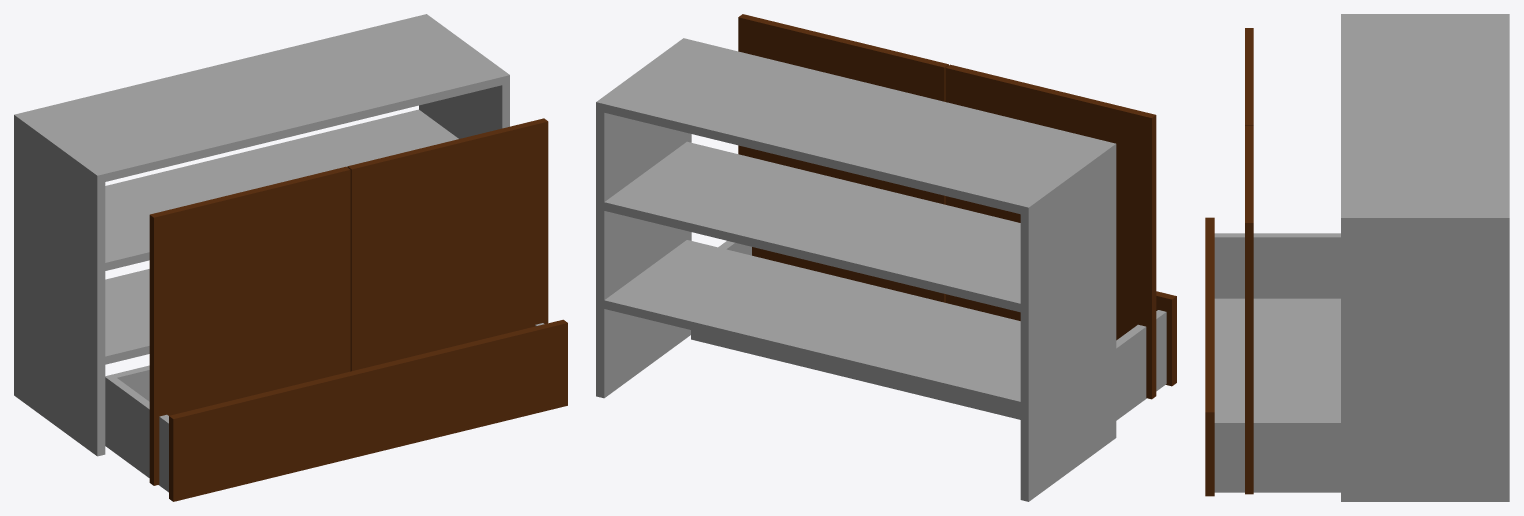
The model's file is meuble_68ff3eddd273c.glb.
3 renders of one model, left to right at view 1: azimuth 30°, elevation 25°; view 2: azimuth 150°, elevation 25°; view 3: azimuth 270°, elevation 25°, orthographic. The views are drawn at different scales.
Parts seen in each view (by area): view 1: world; view 2: world; view 3: world.
Boxes of the visible parts, box(x1,y1,x2,y2) form: world: box(14, 14, 567, 501); world: box(596, 14, 1176, 501); world: box(1205, 14, 1509, 501).
Size of the model in its own units: 1 by 0.65 by 0.6309.
1 material, 1 textured.
